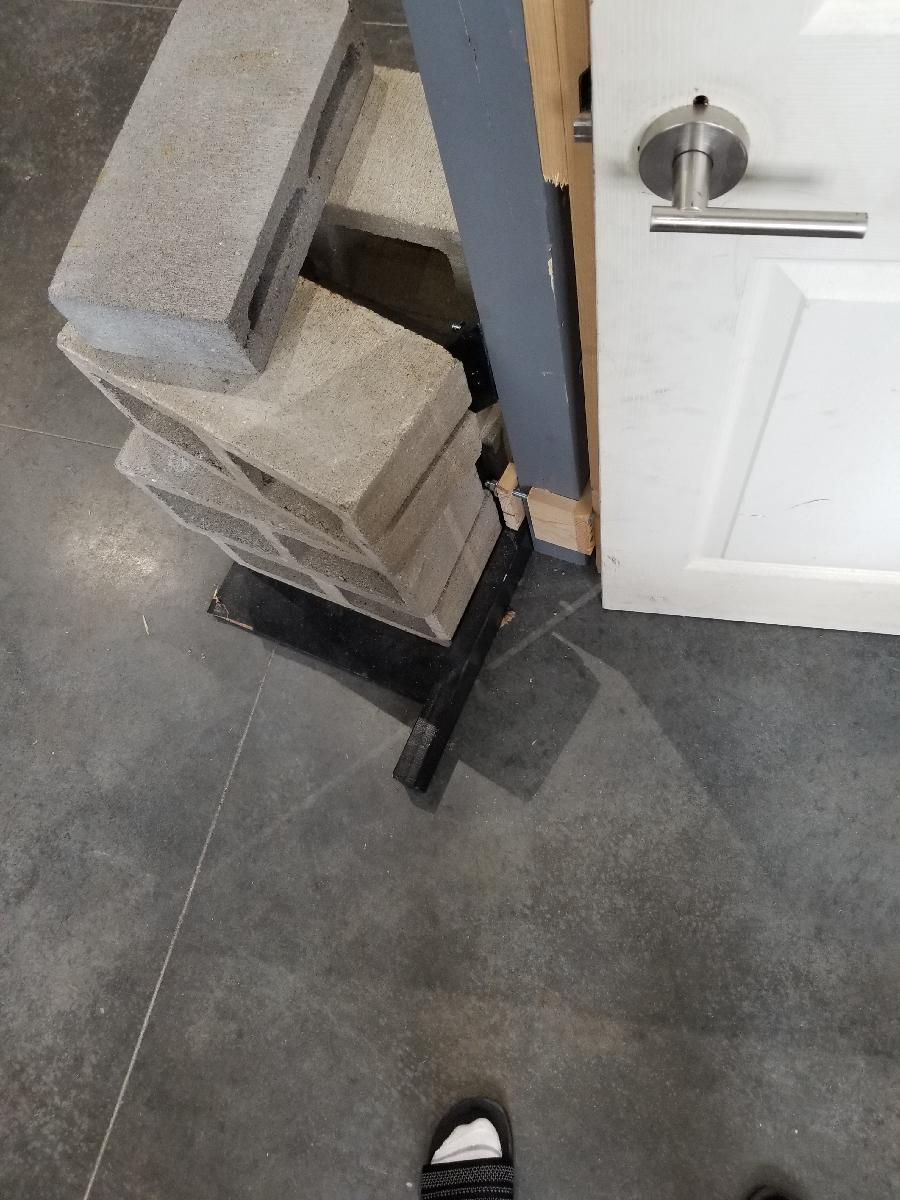doorHandle: (629, 98, 876, 248)
